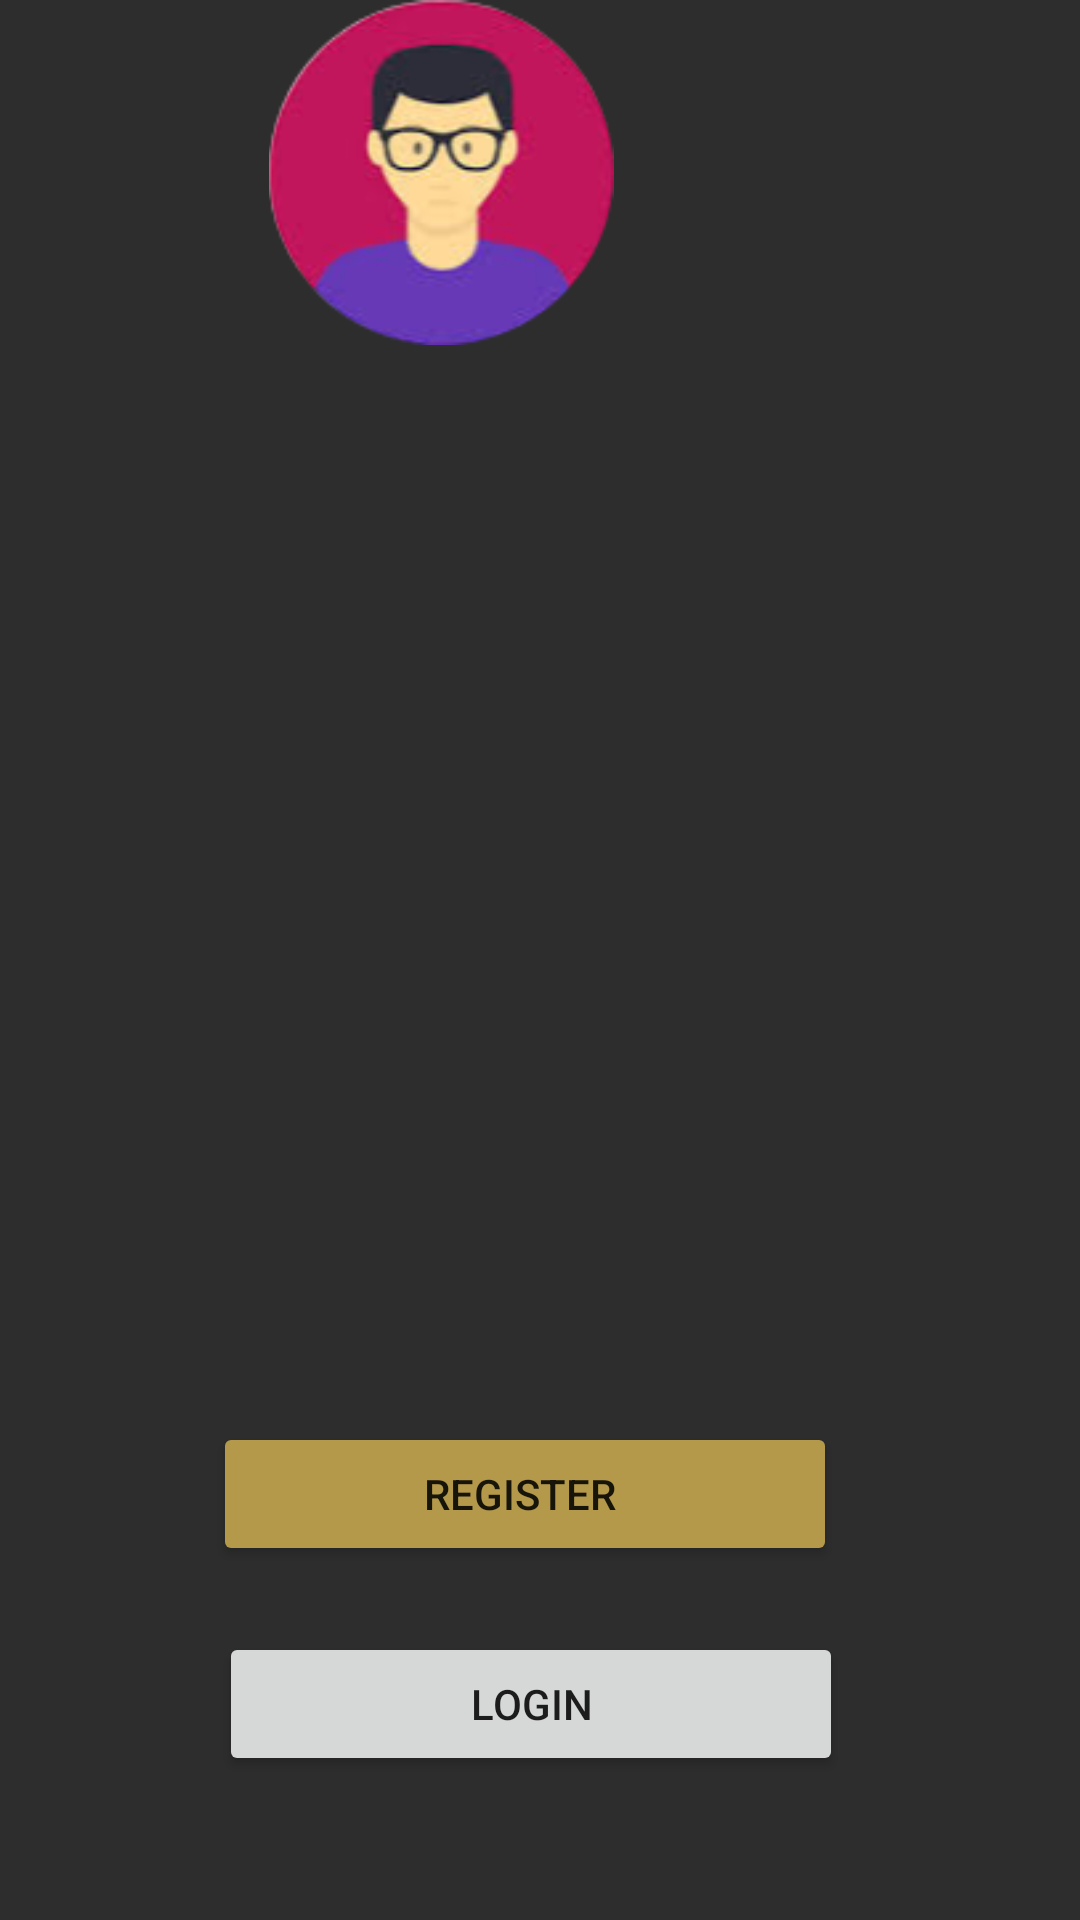

Where to tap for icons on this 1080px x 1920px app screen, as [x,y]:
loginavatar: [441,172]
